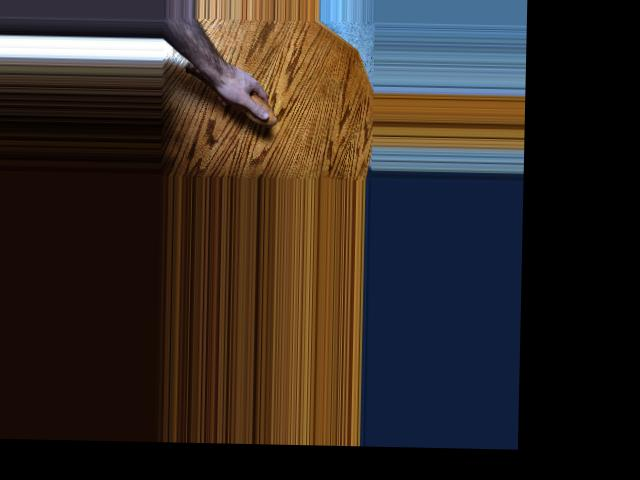sweet_potato: (181, 60, 279, 126)
